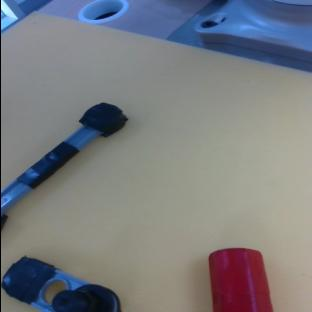part_1_bad: (0, 249, 127, 312)
part_2_good: (209, 248, 272, 312)
part_3_bad: (0, 93, 130, 230)
